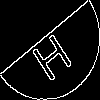H: (25, 25, 75, 83)
